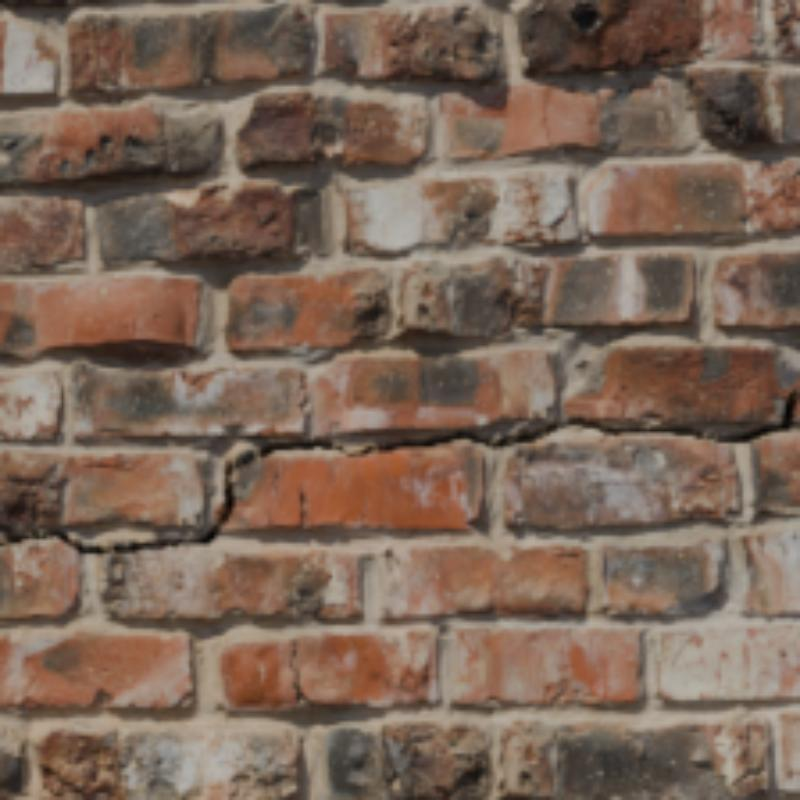crack: (0, 439, 336, 550), (482, 393, 796, 446), (343, 439, 418, 454), (289, 643, 307, 704), (418, 429, 482, 443)
